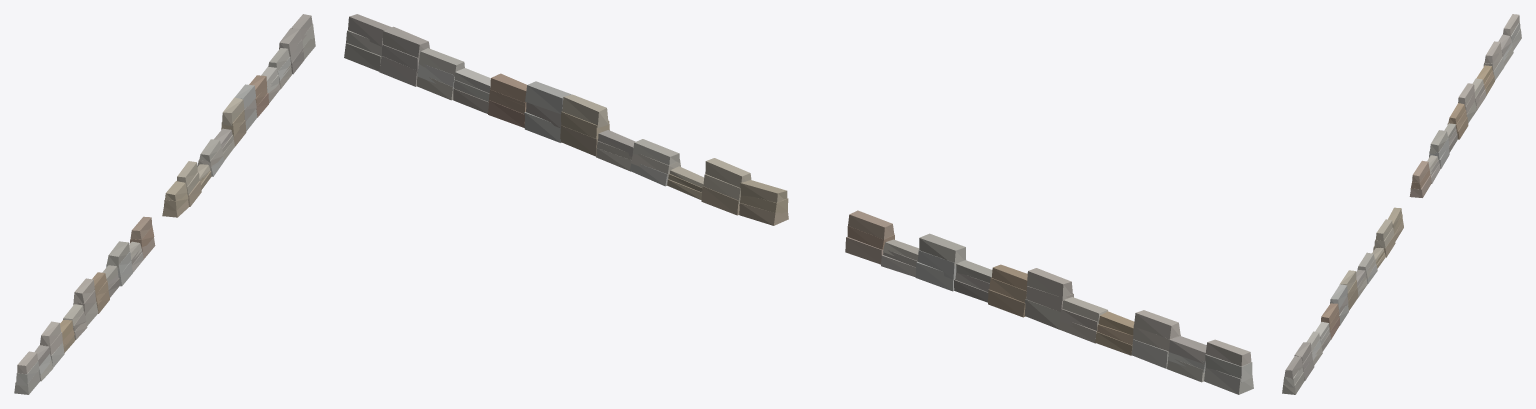
Rendered from farm_-5_5_mid.glb.
3 renders of one model, left to right at view 1: azimuth 90°, elevation 25°; view 2: azimuth 150°, elevation 25°; view 3: azimuth 270°, elevation 25°, orthographic. The views are drawn at different scales.
Parts seen in each view (by area): view 1: geometry_0; view 2: geometry_0; view 3: geometry_0.
Part boxes in pixels (bbox=[...]): geometry_0: bbox=[14, 14, 315, 394]; geometry_0: bbox=[344, 14, 1253, 394]; geometry_0: bbox=[1282, 14, 1521, 394].
Size of the model in its own units: 38.27 by 3.5 by 12.15.
